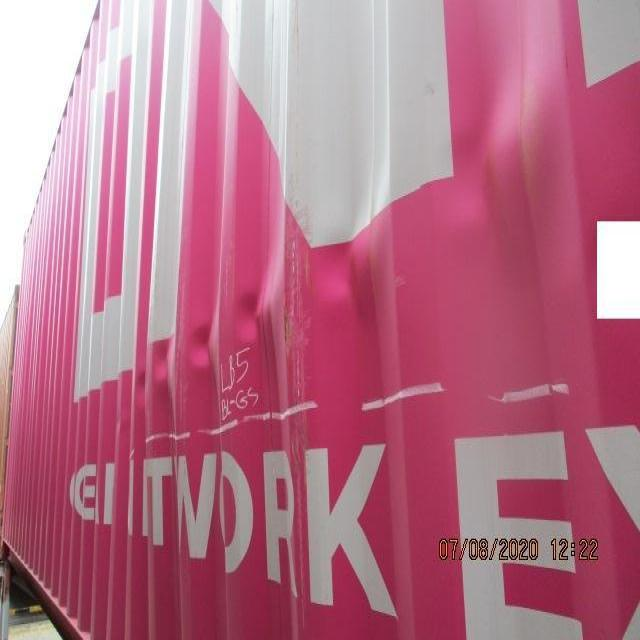dent: (131, 36, 587, 448)
